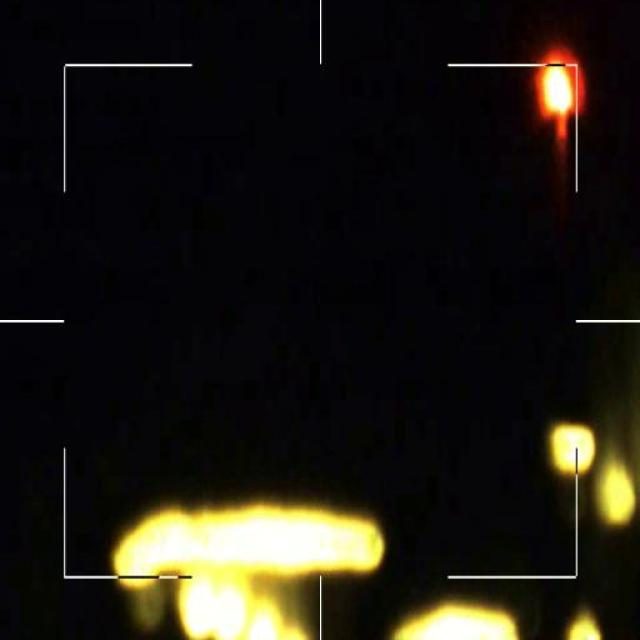bird: (534, 45, 585, 121)
